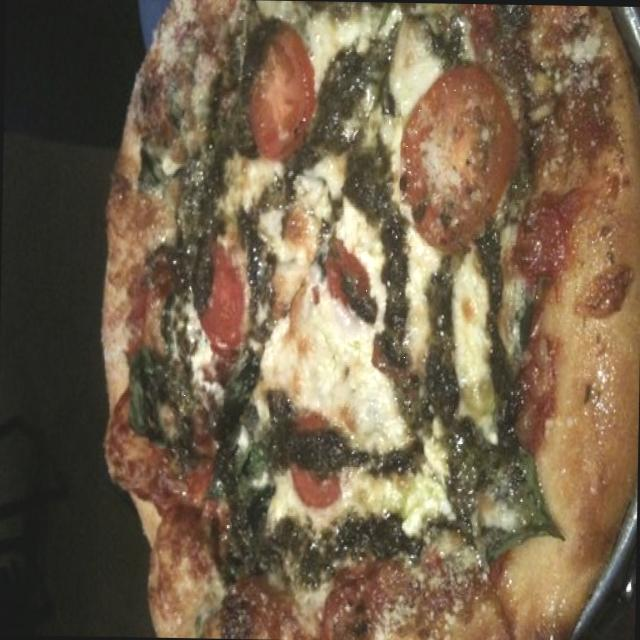basil: (440, 416, 570, 563), (264, 507, 428, 584), (340, 28, 397, 220), (148, 229, 196, 446), (216, 384, 273, 563), (470, 243, 523, 434), (196, 58, 248, 211), (387, 346, 458, 448), (412, 1, 530, 58), (304, 49, 348, 172), (343, 443, 425, 488), (380, 242, 408, 358), (425, 263, 451, 385), (210, 360, 268, 397), (340, 284, 379, 320)
pizza: (101, 0, 640, 640)
tomato: (399, 64, 516, 246), (239, 19, 311, 152), (190, 229, 246, 350), (284, 402, 342, 510)
